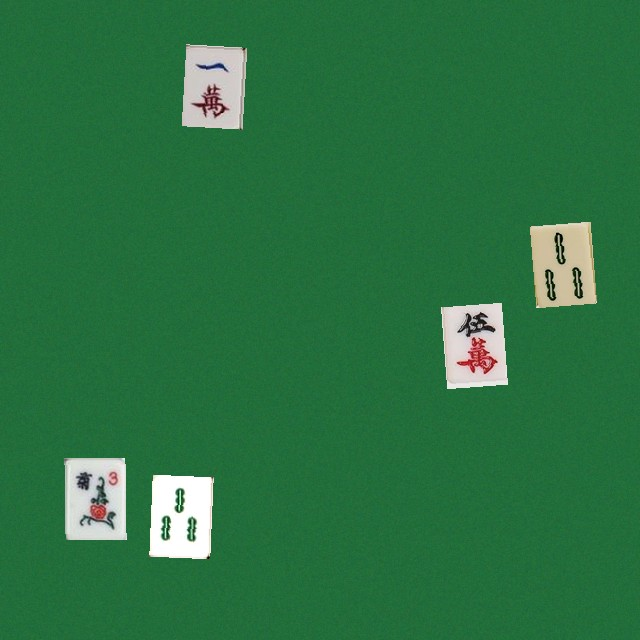tile: (440, 302, 501, 384), (149, 474, 210, 556), (64, 457, 125, 539), (181, 44, 242, 126), (529, 221, 590, 303)
